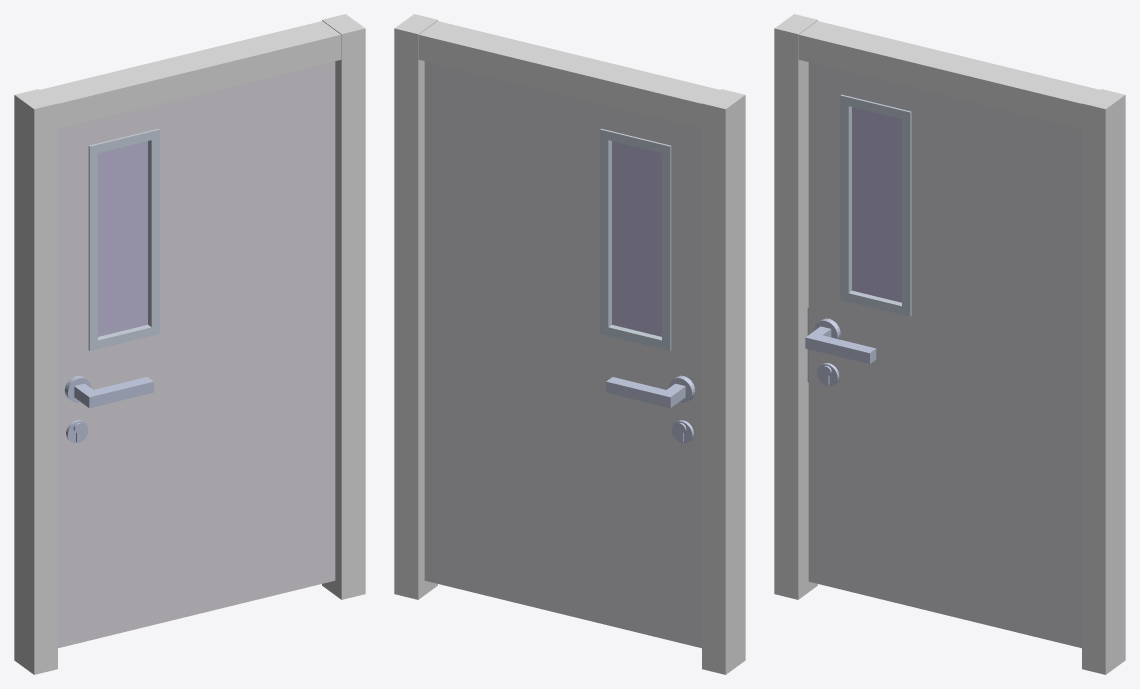
The model's file is Door.fbx.
3 views of the same model, side by side, from view 1: azimuth 30°, elevation 25°; view 2: azimuth 150°, elevation 25°; view 3: azimuth 330°, elevation 25° (orthographic).
Visible parts, largest first — view 1: Door, Cube.001; view 2: Door, Cube.001; view 3: Door, Cube.001.
Part boxes in pixels (<box>): Door: <box>58,61,335,648</box>; Cube.001: <box>14,14,365,674</box>; Door: <box>424,61,701,648</box>; Cube.001: <box>394,14,745,674</box>; Door: <box>805,62,1081,648</box>; Cube.001: <box>774,14,1125,674</box>.
Bounding box in the file's own units: 805 × 1314 × 185.
